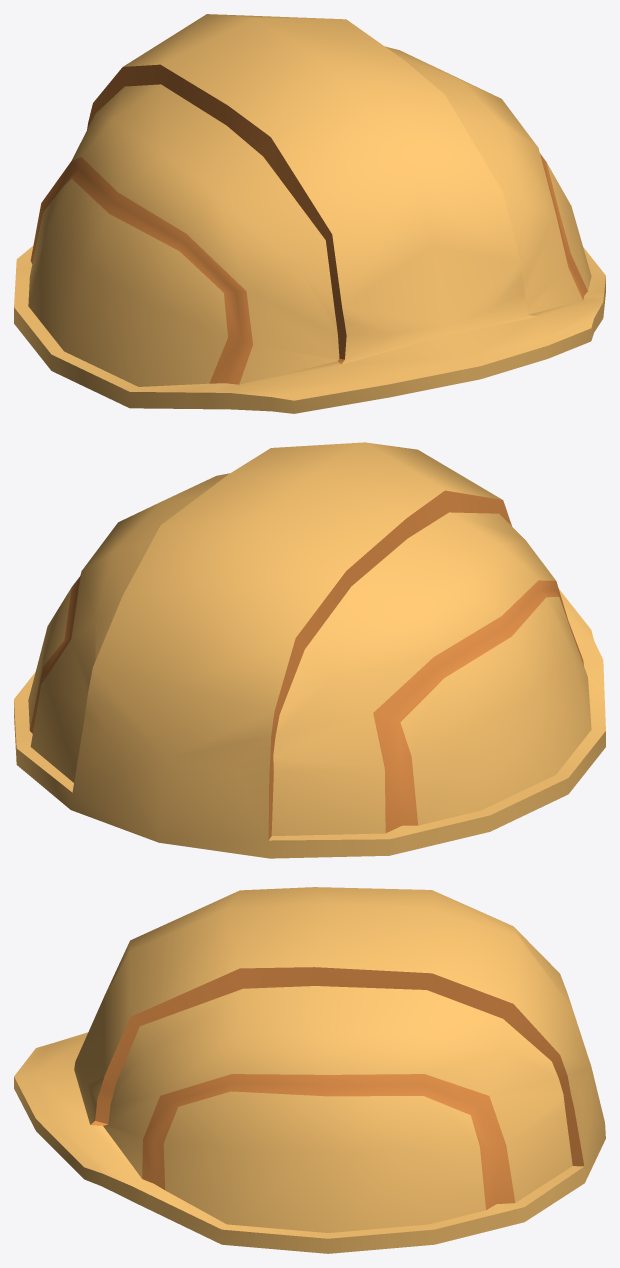
File: Hardhat.fbx
3 renders of one model, top to bottom at view 1: azimuth 30°, elevation 25°; view 2: azimuth 150°, elevation 25°; view 3: azimuth 270°, elevation 25°, orthographic. The views are drawn at different scales.
Parts seen in each view (by area): view 1: Sphere.002; view 2: Sphere.002; view 3: Sphere.002.
Part boxes in pixels (left/top/right/bottom): Sphere.002: left=14, top=14, right=605, bottom=413; Sphere.002: left=14, top=442, right=605, bottom=858; Sphere.002: left=14, top=887, right=605, bottom=1253.
Size of the model in its own units: 69.05 by 32.65 by 74.51.
